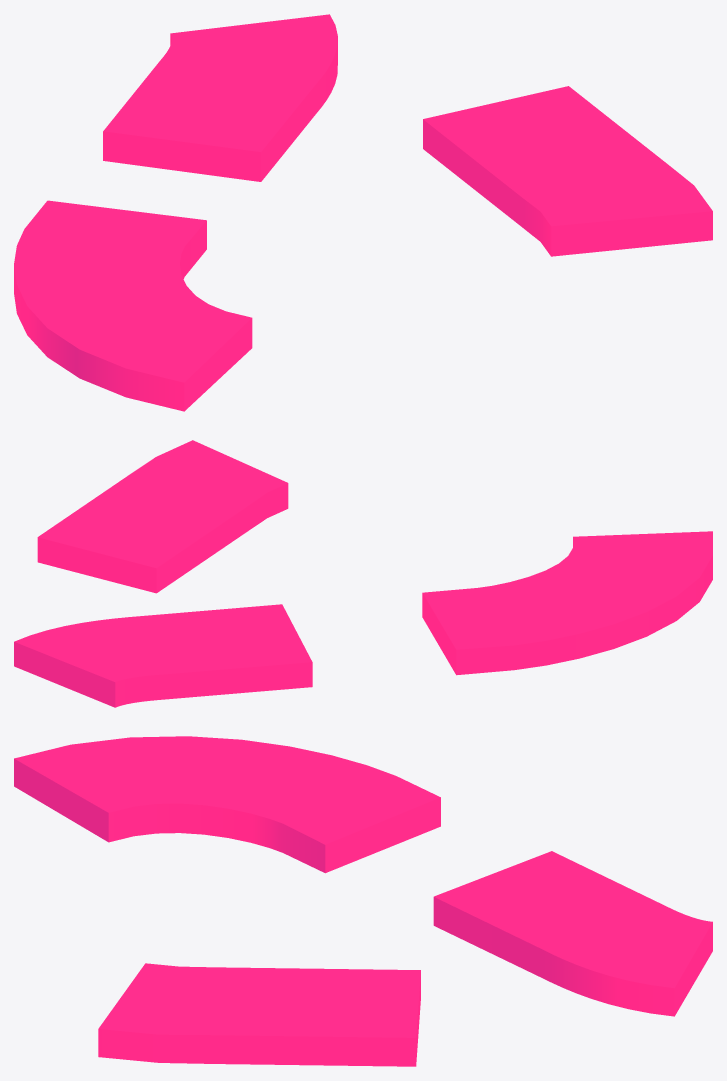
The model's file is SM_Highlihted_areas.fbx.
3 views of the same model, one above another, from view 1: azimuth 30°, elevation 25°; view 2: azimuth 150°, elevation 25°; view 3: azimuth 270°, elevation 25° (orthographic). The views are drawn at different scales.
Visible parts, largest first — view 1: Object001, Object003, Object002; view 2: Object001, Object002, Object003; view 3: Object001, Object003, Object002.
Boxes of the visible parts, bbox=[...] form: Object001: bbox=[14, 200, 252, 411]; Object003: bbox=[423, 86, 712, 256]; Object002: bbox=[103, 14, 337, 181]; Object001: bbox=[422, 531, 712, 675]; Object002: bbox=[14, 604, 312, 707]; Object003: bbox=[37, 440, 288, 593]; Object001: bbox=[14, 736, 440, 873]; Object003: bbox=[98, 963, 420, 1066]; Object002: bbox=[433, 851, 712, 1016].
Bounding box in the file's own units: 1125 × 51.58 × 1101.
